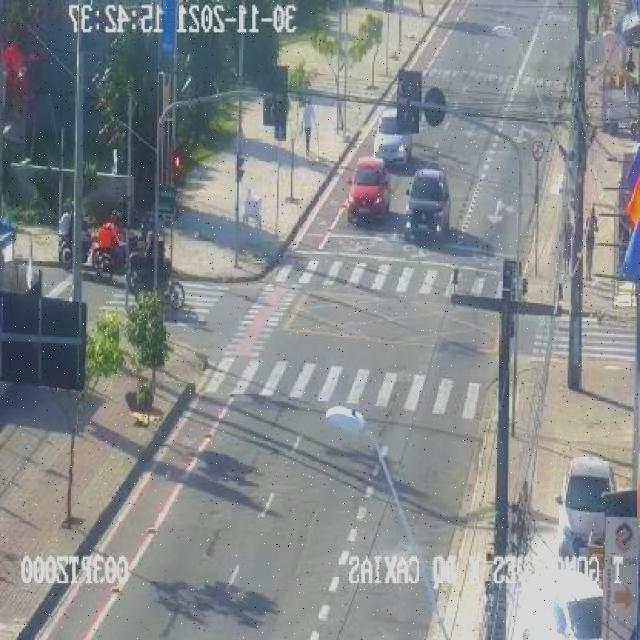Car: (511, 564, 603, 637), (556, 444, 614, 554), (404, 167, 453, 242), (346, 158, 390, 223), (372, 110, 412, 168), (605, 92, 639, 134)
Cycle: (109, 258, 188, 302), (79, 236, 143, 275)
